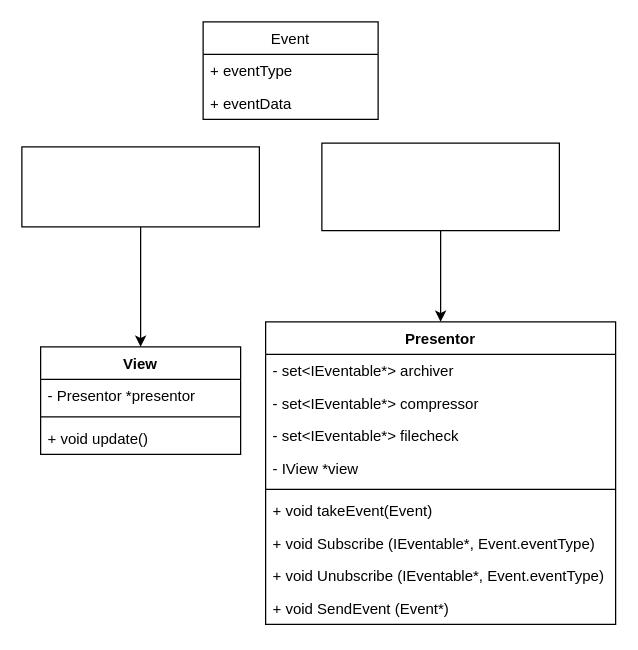
This 638x650 diagram has some shape labels left out. The centre of each missing label's shape, as x and y in pixels:
"IEventable Interface + virtual void takeEvent(Event)" belongs at pixel 440 186.
"IView Interface + virtual void update()" belongs at pixel 140 186.
